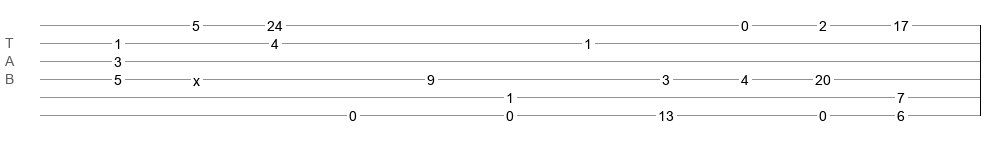0: (349, 108, 357, 118), (506, 108, 514, 118), (741, 18, 749, 28), (819, 108, 827, 118)
1: (114, 36, 122, 46), (506, 90, 514, 100), (584, 36, 592, 46)
13: (658, 108, 674, 118)
17: (893, 18, 909, 28)
2: (819, 18, 827, 28)
20: (815, 72, 831, 82)
24: (267, 18, 283, 28)
3: (114, 54, 122, 64), (662, 72, 670, 82)
4: (271, 36, 279, 46), (741, 72, 749, 82)
5: (114, 72, 122, 82), (192, 18, 200, 28)
6: (897, 108, 905, 118)
7: (897, 90, 905, 100)
9: (427, 72, 435, 82)
x: (193, 73, 200, 81)
